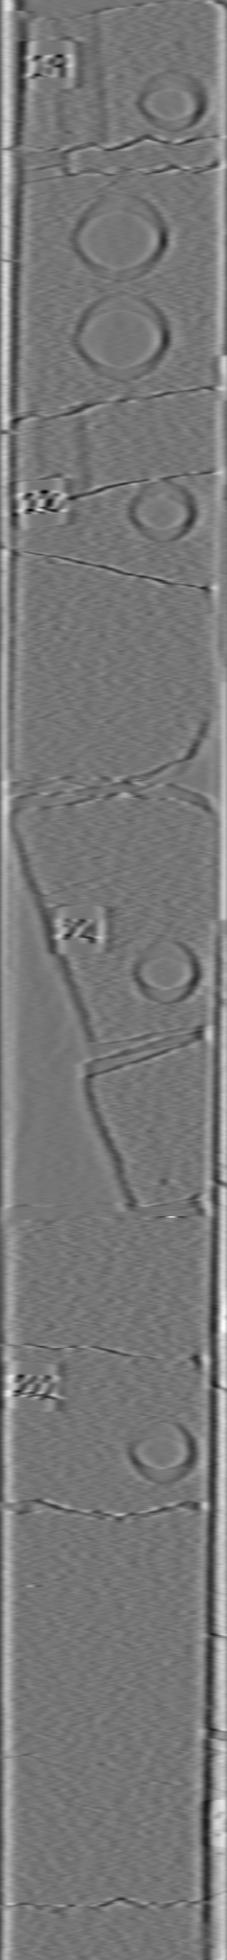hplug: (123, 475, 202, 545), (136, 62, 208, 137), (128, 935, 200, 1009), (123, 1417, 198, 1487)
scal: (70, 289, 175, 385), (69, 189, 172, 285)
vplug: (44, 11, 112, 152), (32, 407, 94, 499)
